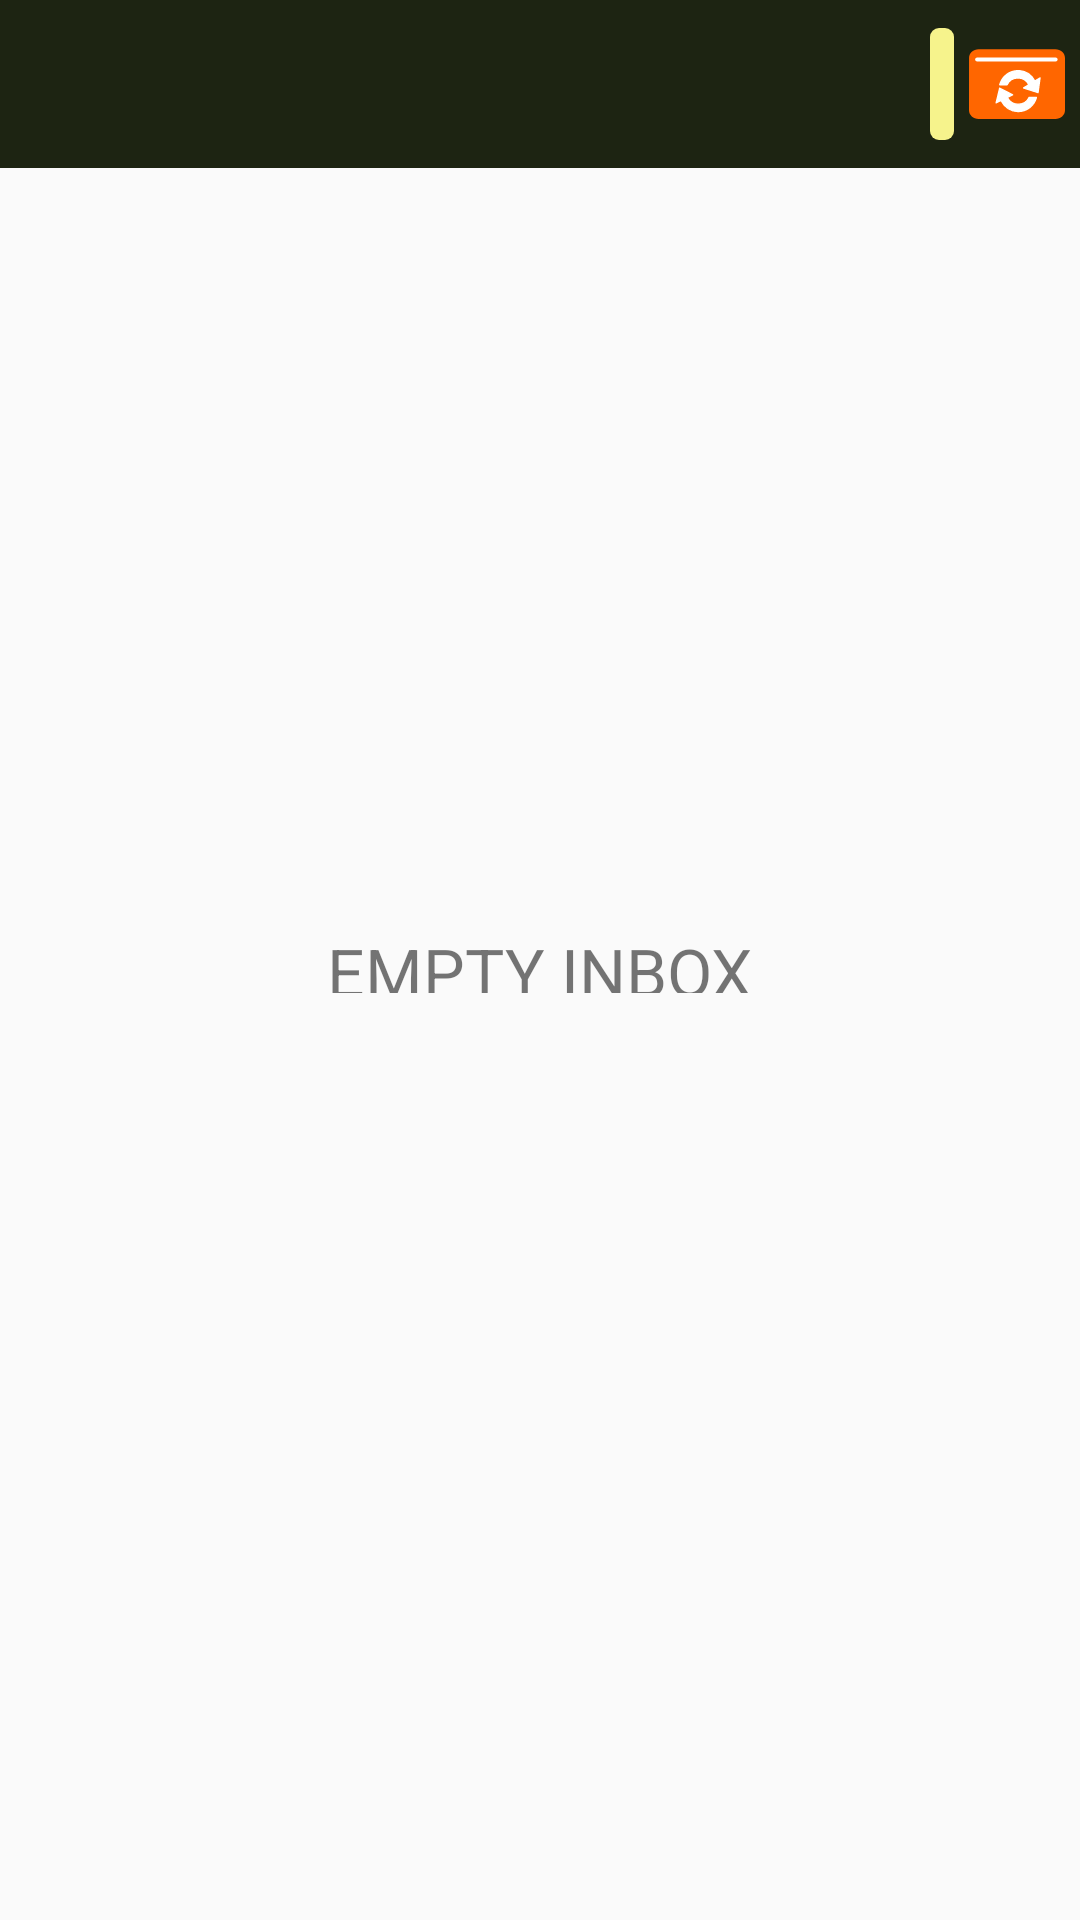

Named icons in this screenshot (1080*1920) and their bounding boxes, (x1, y1, x2, y2):
Refresh: (969, 49, 1065, 119)
